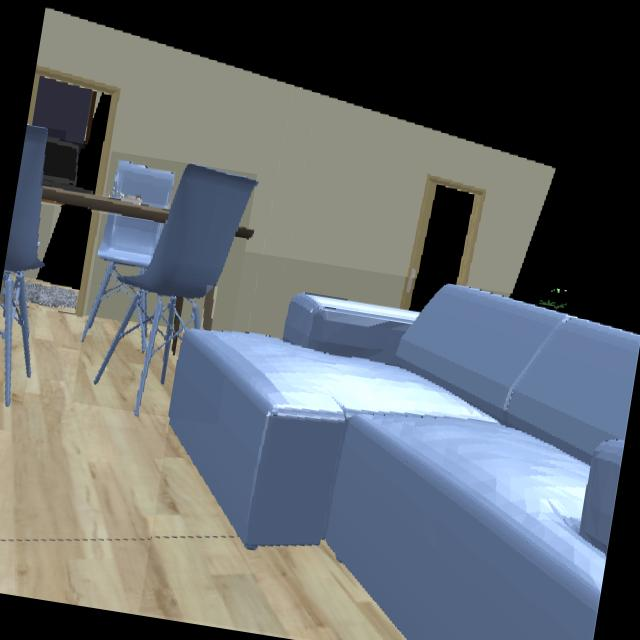chair: (83, 164, 256, 413), (2, 125, 47, 403), (115, 163, 172, 207)
laptop: (44, 139, 90, 193)
sofa: (170, 285, 640, 640)
table: (42, 186, 168, 224), (204, 287, 216, 330), (236, 228, 254, 239), (176, 298, 183, 316), (172, 338, 177, 356), (175, 318, 180, 331)
